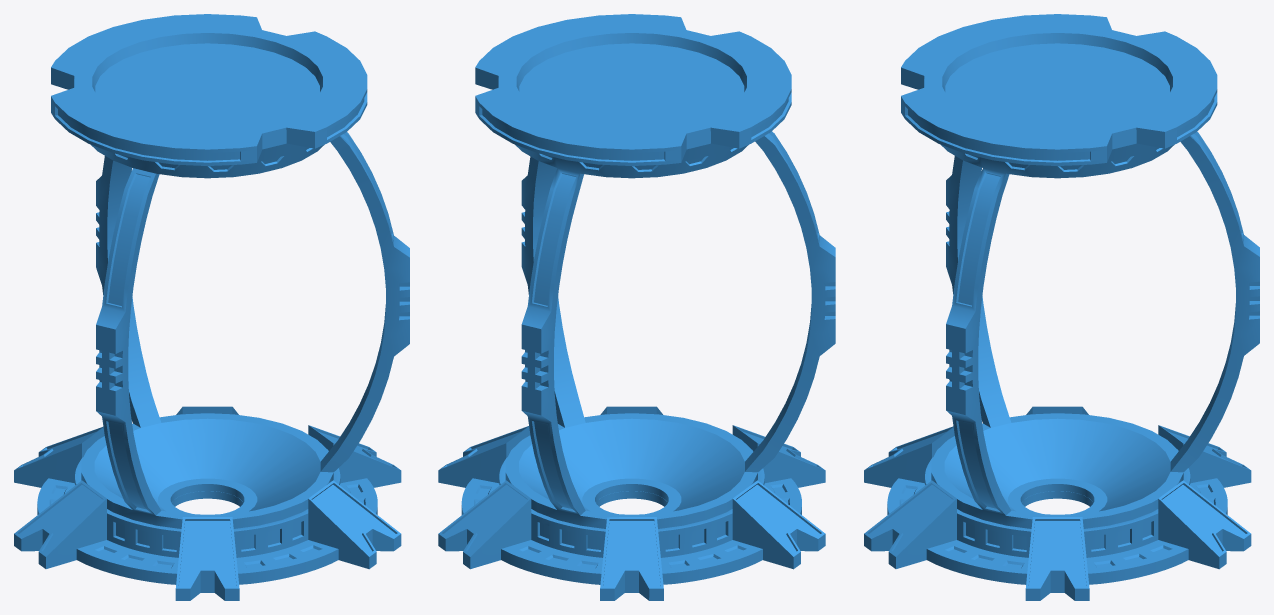
The model's file is cashoporter_lp.FBX.
3 views of the same model, side by side, from view 1: azimuth 30°, elevation 25°; view 2: azimuth 150°, elevation 25°; view 3: azimuth 270°, elevation 25° (orthographic).
Visible parts, largest first — view 1: donen_lp, tavan_lp, taban_lp; view 2: donen_lp, tavan_lp, taban_lp; view 3: donen_lp, tavan_lp, taban_lp.
Boxes of the visible parts, left/top/right/bottom form: donen_lp: left=81, top=132, right=409, bottom=528; tavan_lp: left=51, top=14, right=367, bottom=166; taban_lp: left=14, top=406, right=401, bottom=600; donen_lp: left=505, top=131, right=835, bottom=528; tavan_lp: left=475, top=14, right=791, bottom=166; taban_lp: left=438, top=406, right=825, bottom=600; donen_lp: left=931, top=132, right=1259, bottom=528; tavan_lp: left=901, top=14, right=1217, bottom=166; taban_lp: left=864, top=406, right=1251, bottom=600.
Bounding box in the file's own units: 34.28 × 39.89 × 33.09.
